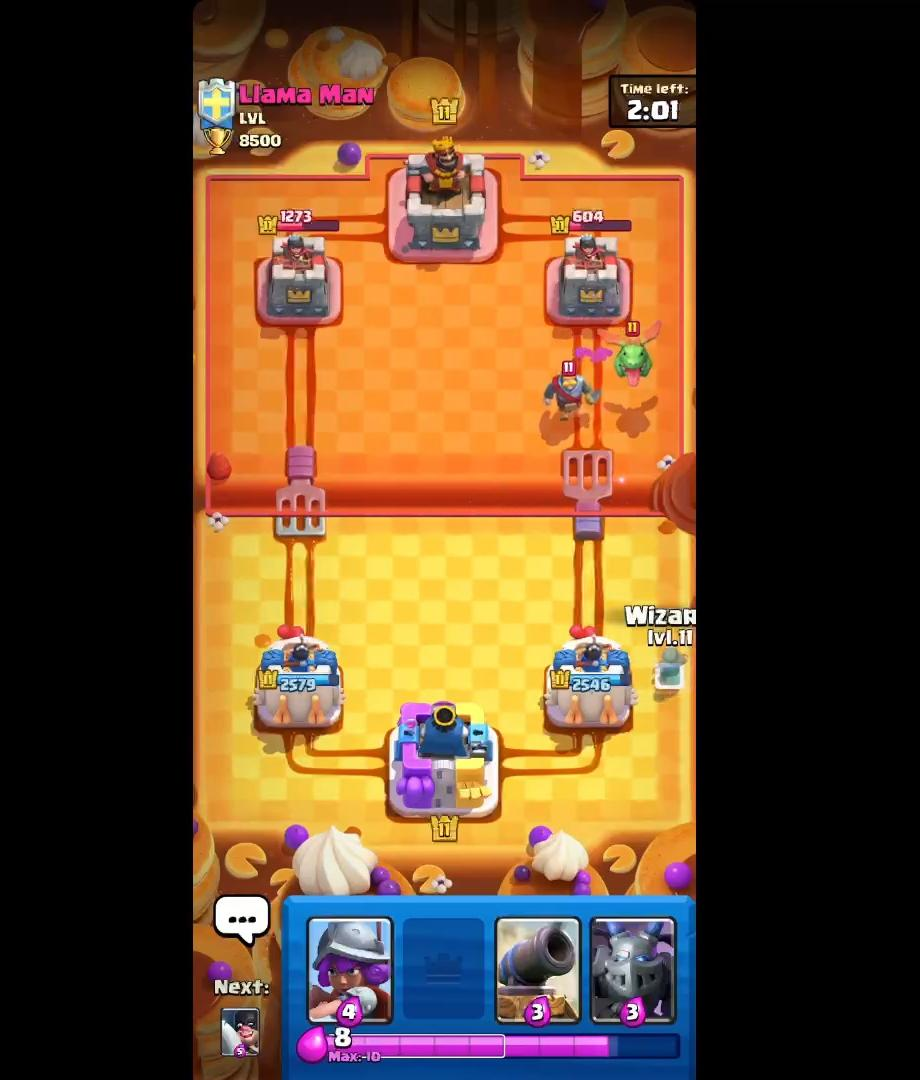Baby Dragon: (596, 316, 668, 390)
Knight: (542, 352, 601, 430)
